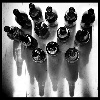beer: (29, 48, 47, 65)
